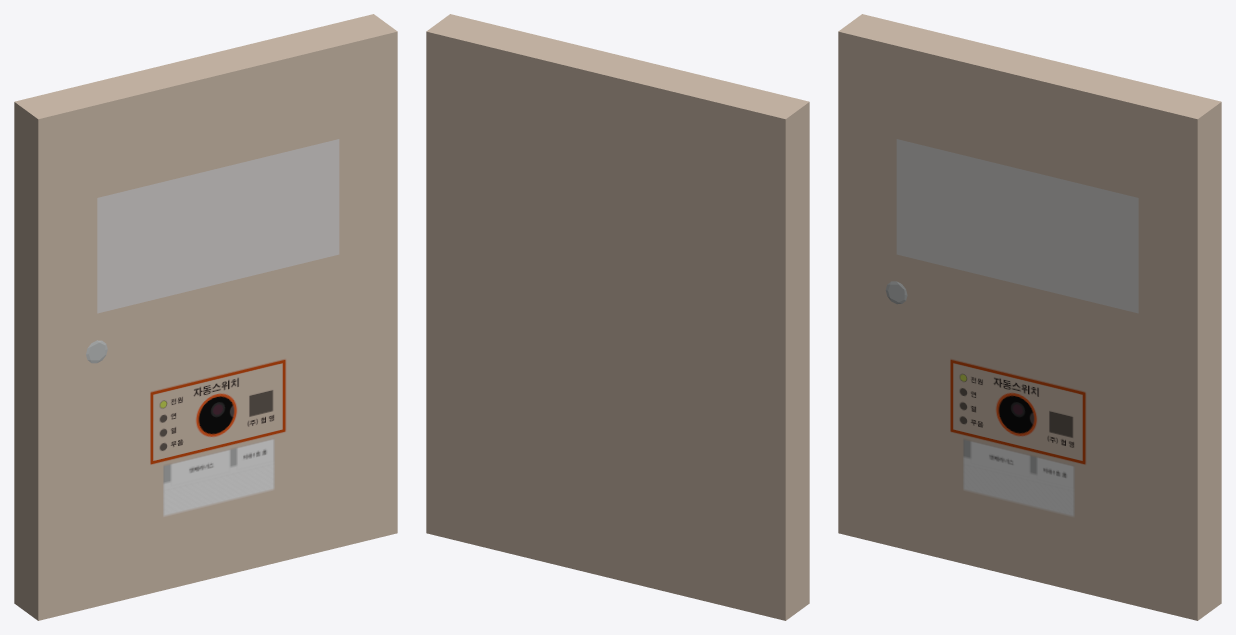
The model's file is LC_3046_Firealarm_Operationbox_LOD1.FBX.
3 views of the same model, side by side, from view 1: azimuth 30°, elevation 25°; view 2: azimuth 150°, elevation 25°; view 3: azimuth 330°, elevation 25° (orthographic).
Visible parts, largest first — view 1: LC_3046_Firealarm_Operationbox_LOD1; view 2: LC_3046_Firealarm_Operationbox_LOD1; view 3: LC_3046_Firealarm_Operationbox_LOD1.
Part boxes in pixels (bbox=[...]): LC_3046_Firealarm_Operationbox_LOD1: bbox=[14, 14, 397, 620]; LC_3046_Firealarm_Operationbox_LOD1: bbox=[426, 14, 809, 620]; LC_3046_Firealarm_Operationbox_LOD1: bbox=[838, 14, 1221, 620].
Size of the model in its own units: 30 by 40 by 3.52.
1 material, 1 textured.
